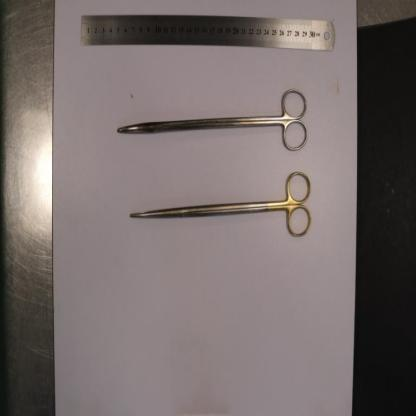7 Metzenbaum Scissors: (128, 167, 312, 240)
9 Metzenbaum Scissors: (116, 89, 309, 154)
